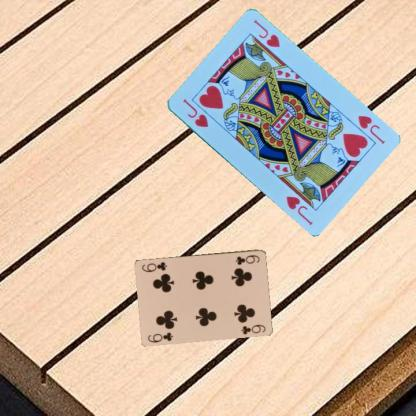6c: (146, 329, 174, 344), (233, 252, 261, 266)
Jh: (355, 112, 386, 146), (180, 96, 209, 129)
